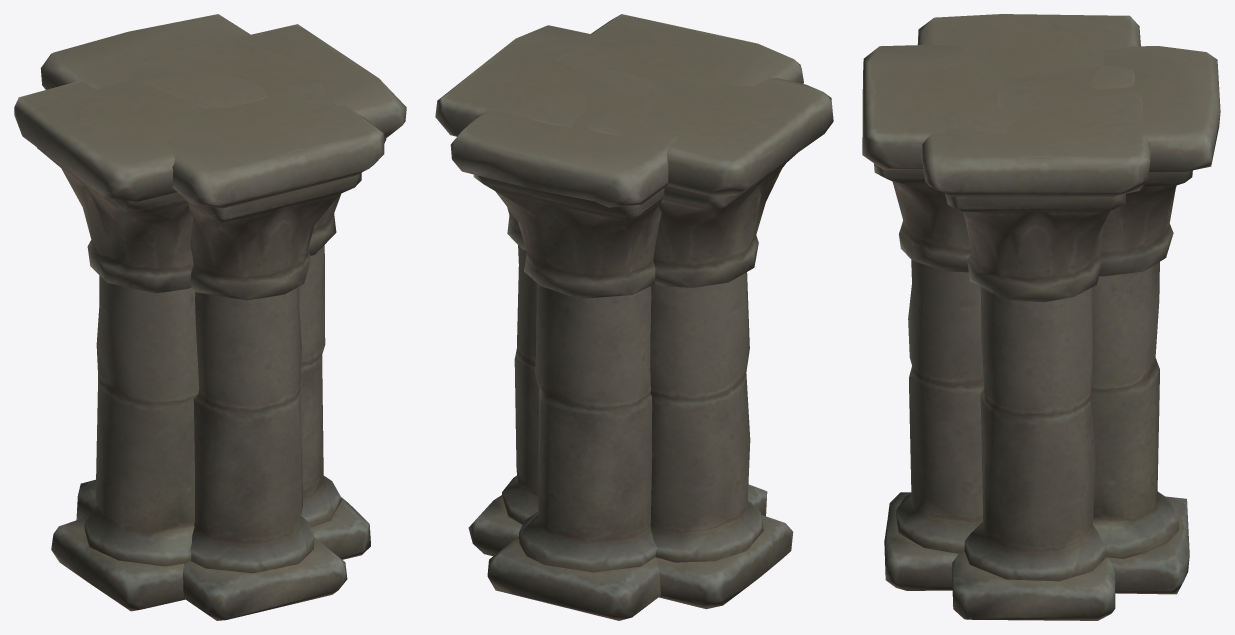
The model's file is SM_FW01_Ruins_Int_Pillar_D_1x3_01.fbx.
3 renders of one model, left to right at view 1: azimuth 30°, elevation 25°; view 2: azimuth 150°, elevation 25°; view 3: azimuth 270°, elevation 25°, orthographic. The views are drawn at different scales.
Parts seen in each view (by area): view 1: SM_FW01_Ruins_Int_Pillar_D_1x3_01_LOD0; view 2: SM_FW01_Ruins_Int_Pillar_D_1x3_01_LOD0; view 3: SM_FW01_Ruins_Int_Pillar_D_1x3_01_LOD0.
Part boxes in pixels (box(x1,y1,x2,y2)): SM_FW01_Ruins_Int_Pillar_D_1x3_01_LOD0: box(14, 14, 406, 620); SM_FW01_Ruins_Int_Pillar_D_1x3_01_LOD0: box(435, 14, 833, 620); SM_FW01_Ruins_Int_Pillar_D_1x3_01_LOD0: box(862, 14, 1220, 620).
Size of what is drawn, in the model's own units: 2.09 by 3.06 by 2.09.
